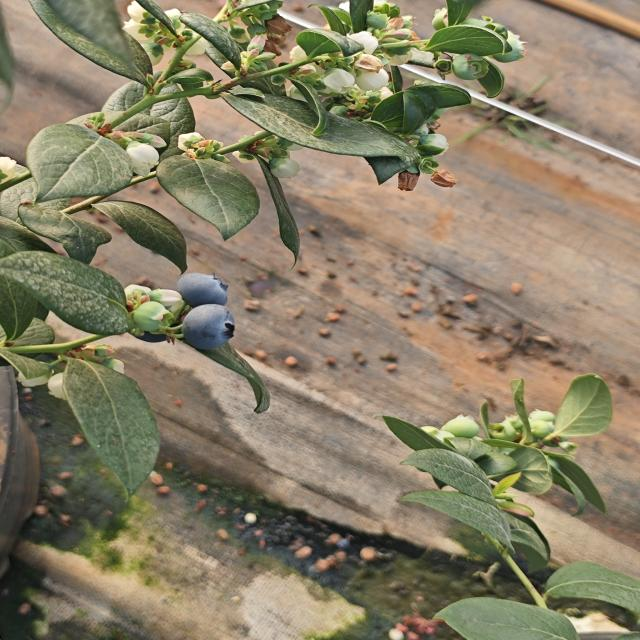ripe: (178, 303, 238, 352), (174, 271, 231, 309)
